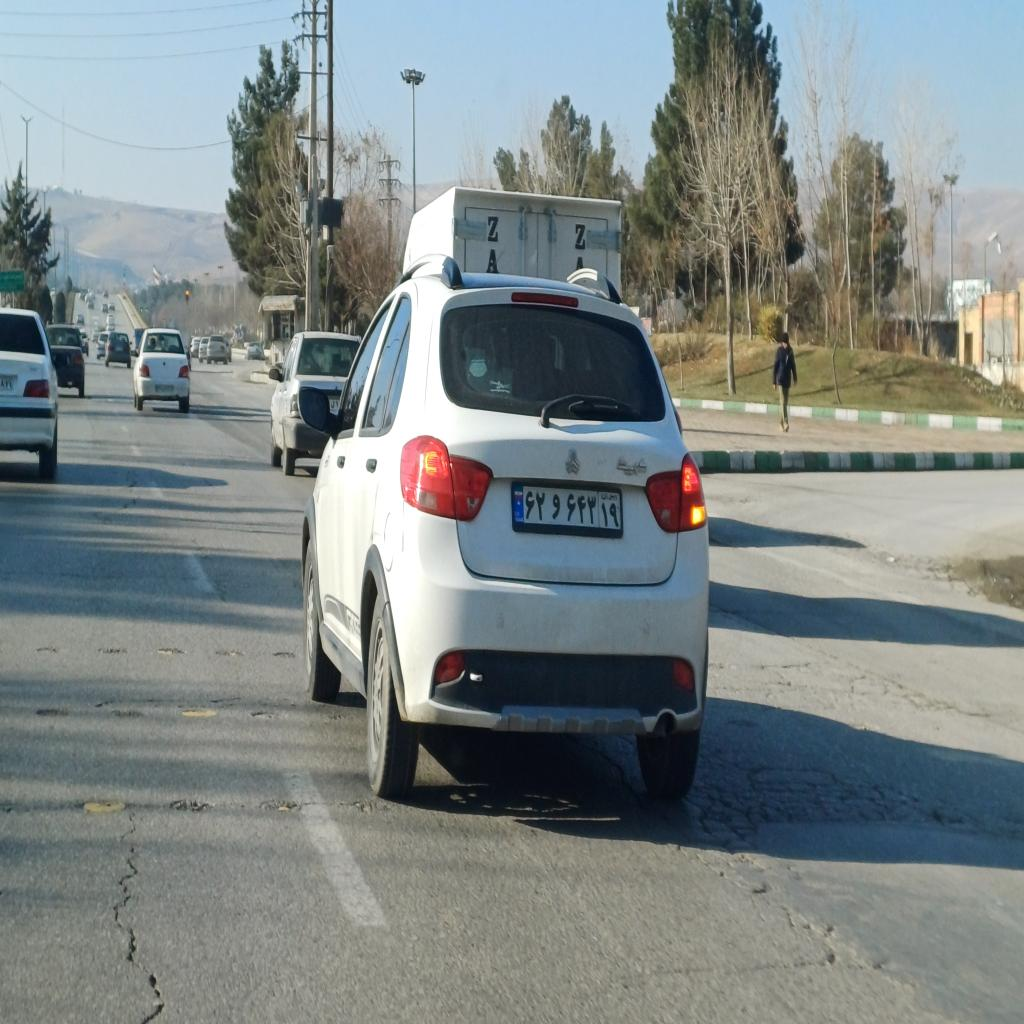Plates: (510, 479, 624, 538)
